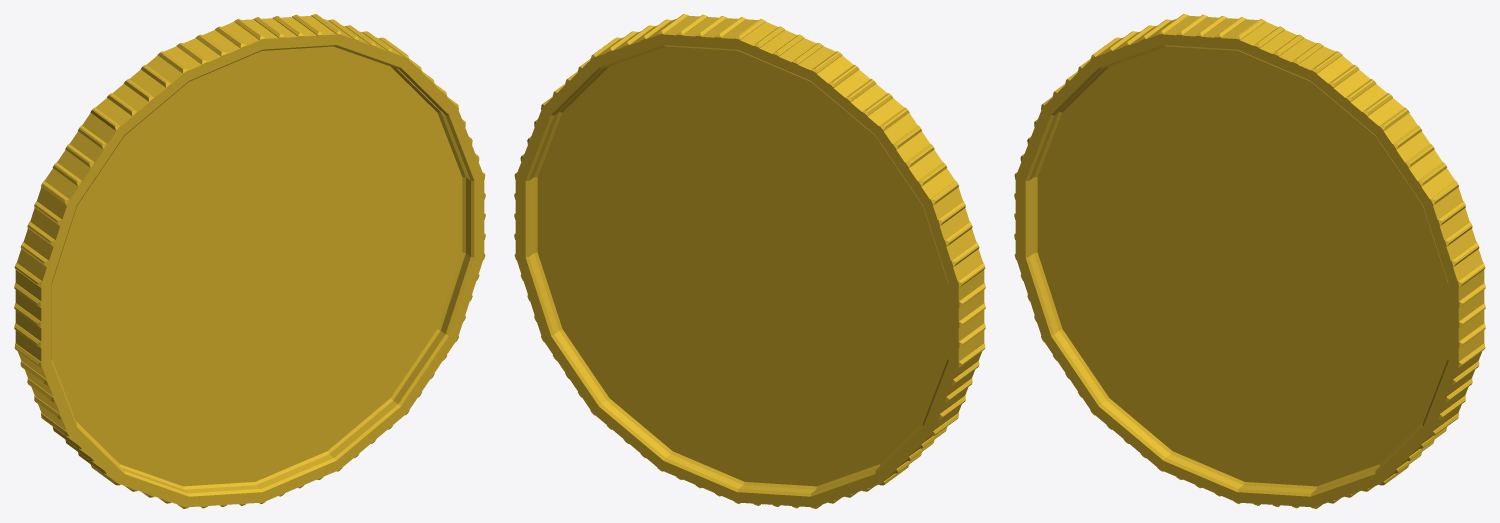
Rendered from Coin_01.fbx.
3 views of the same model, side by side, from view 1: azimuth 30°, elevation 25°; view 2: azimuth 150°, elevation 25°; view 3: azimuth 330°, elevation 25° (orthographic).
Parts seen in each view (by area): view 1: Coin_01; view 2: Coin_01; view 3: Coin_01.
Part boxes in pixels (x1,y1,x2,y2): Coin_01: (14,14,485,508); Coin_01: (514,14,985,508); Coin_01: (1014,14,1485,508).
Size of the model in its own units: 203 by 202 by 20.
